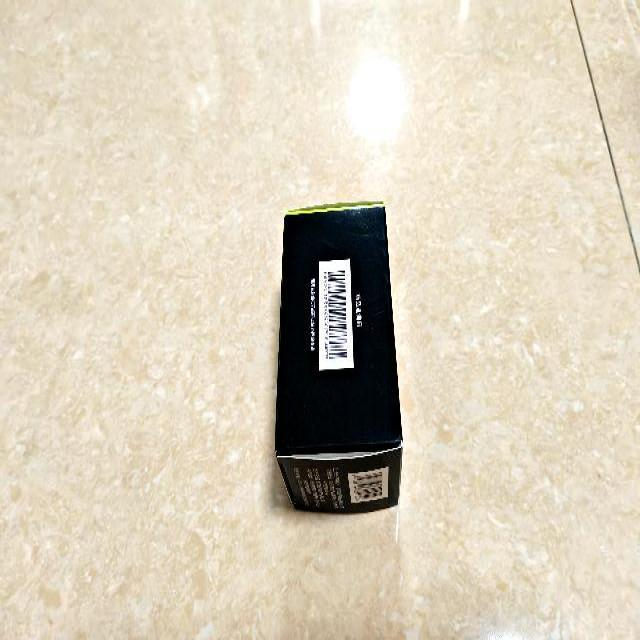box: (273, 200, 405, 514)
